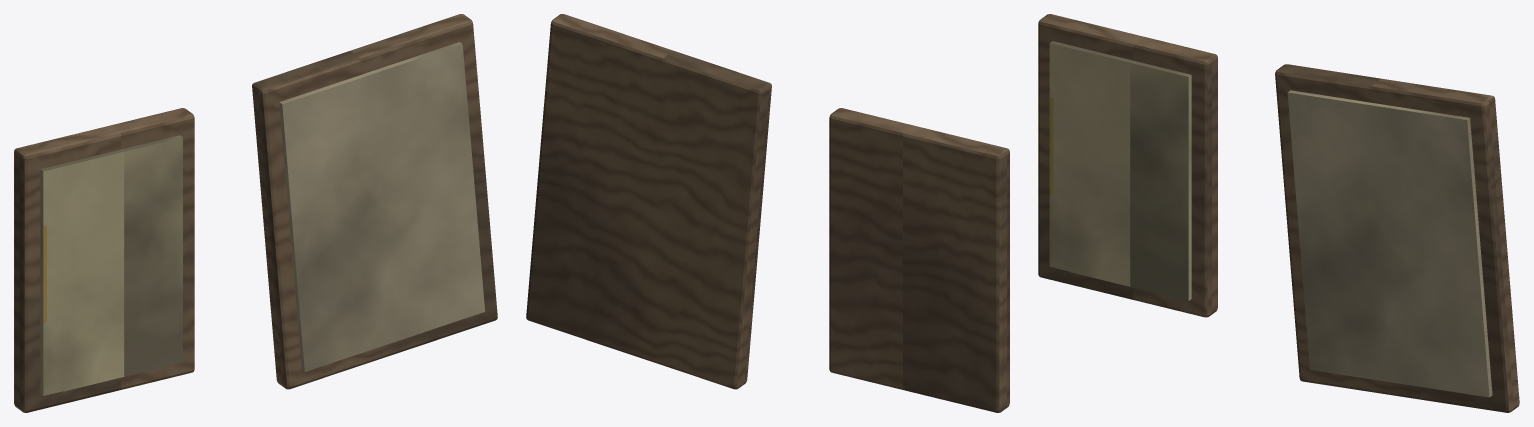
Rendered from L09_wall_photo_frames_v3.glb.
3 renders of one model, left to right at view 1: azimuth 30°, elevation 25°; view 2: azimuth 150°, elevation 25°; view 3: azimuth 330°, elevation 25°, orthographic.
Parts seen in each view (by area): view 1: L09_wall_photo_frames_v3; view 2: L09_wall_photo_frames_v3; view 3: L09_wall_photo_frames_v3.
Boxes of the visible parts, box(x1,y1,x2,y2) form: L09_wall_photo_frames_v3: box(14, 14, 497, 412); L09_wall_photo_frames_v3: box(526, 14, 1009, 412); L09_wall_photo_frames_v3: box(1038, 14, 1519, 412).
Size of the model in its own units: 0.8 by 0.5237 by 0.0427.
Materials: 3 (3 with a texture image).
